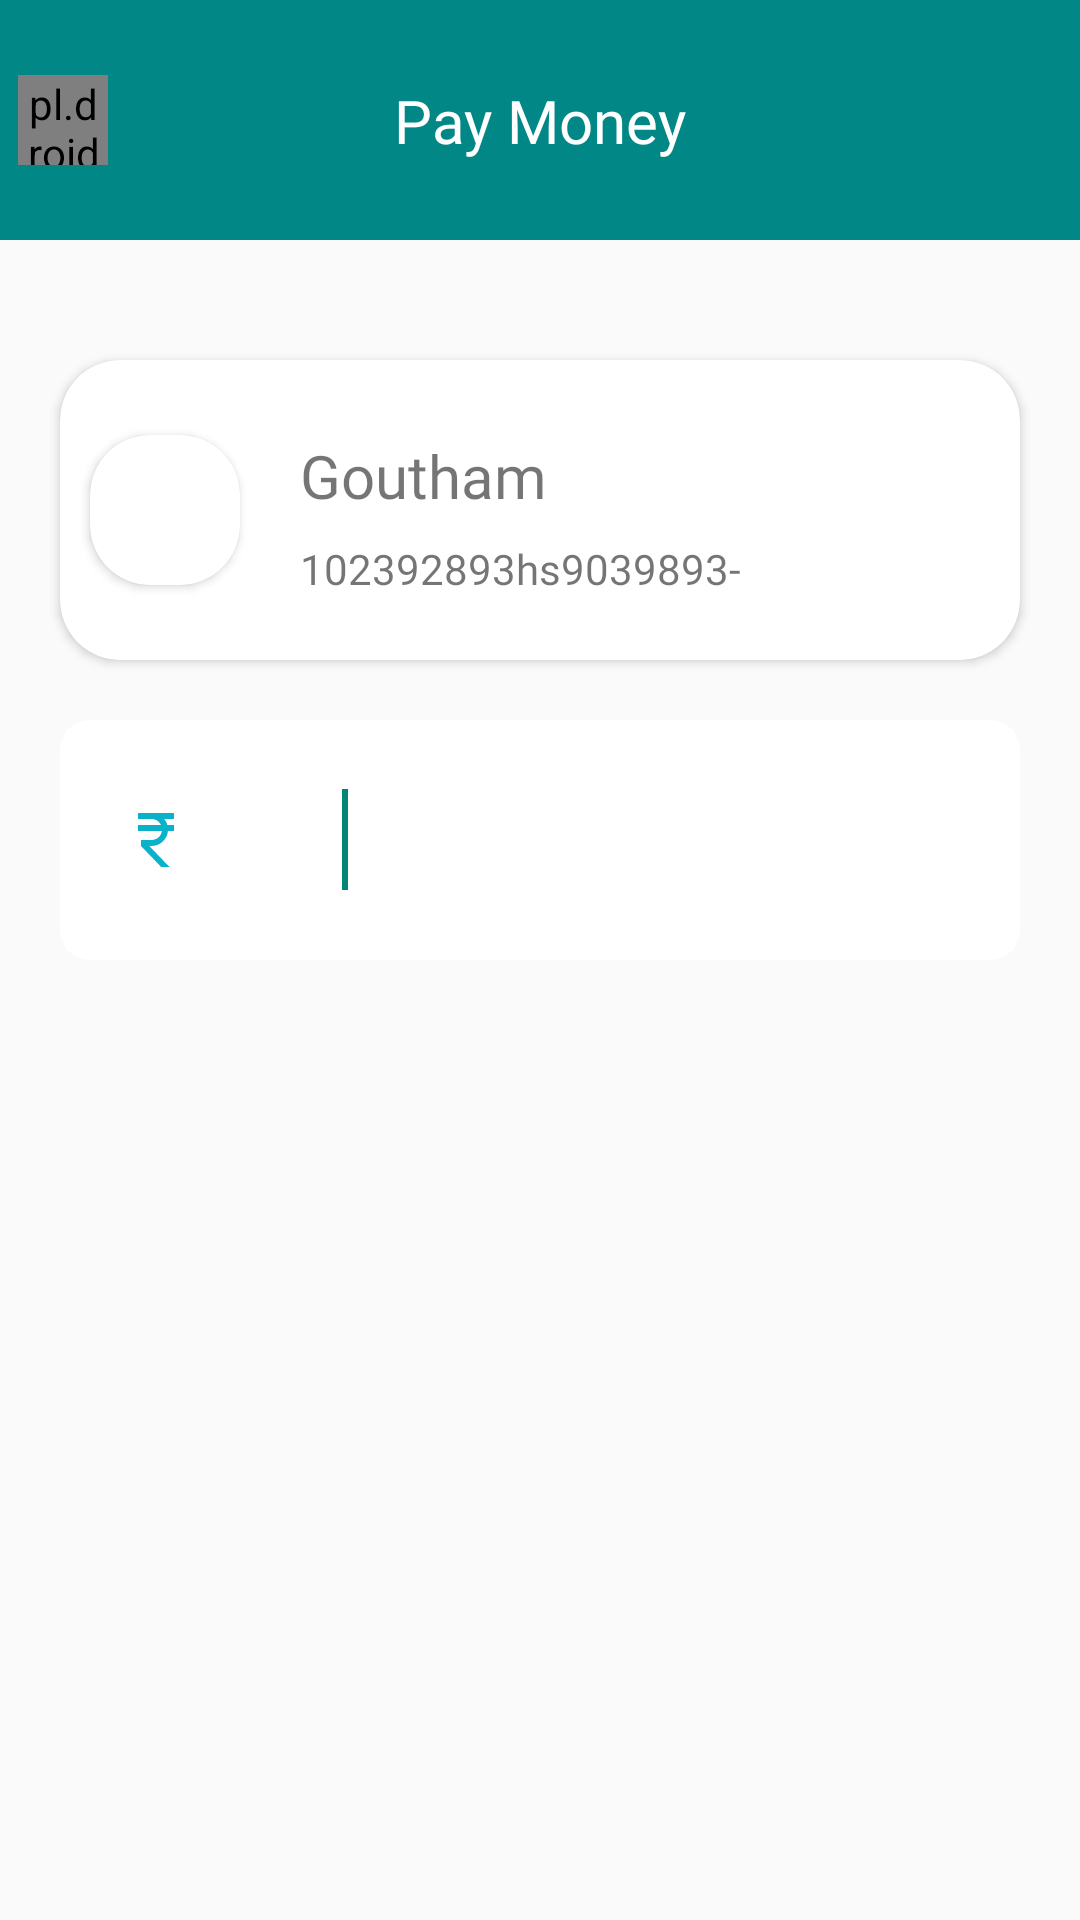

Screen size 1080w x 1920h. Icon name, then its center in pixels as point (x, y):
rupeesic: point (156, 840)
